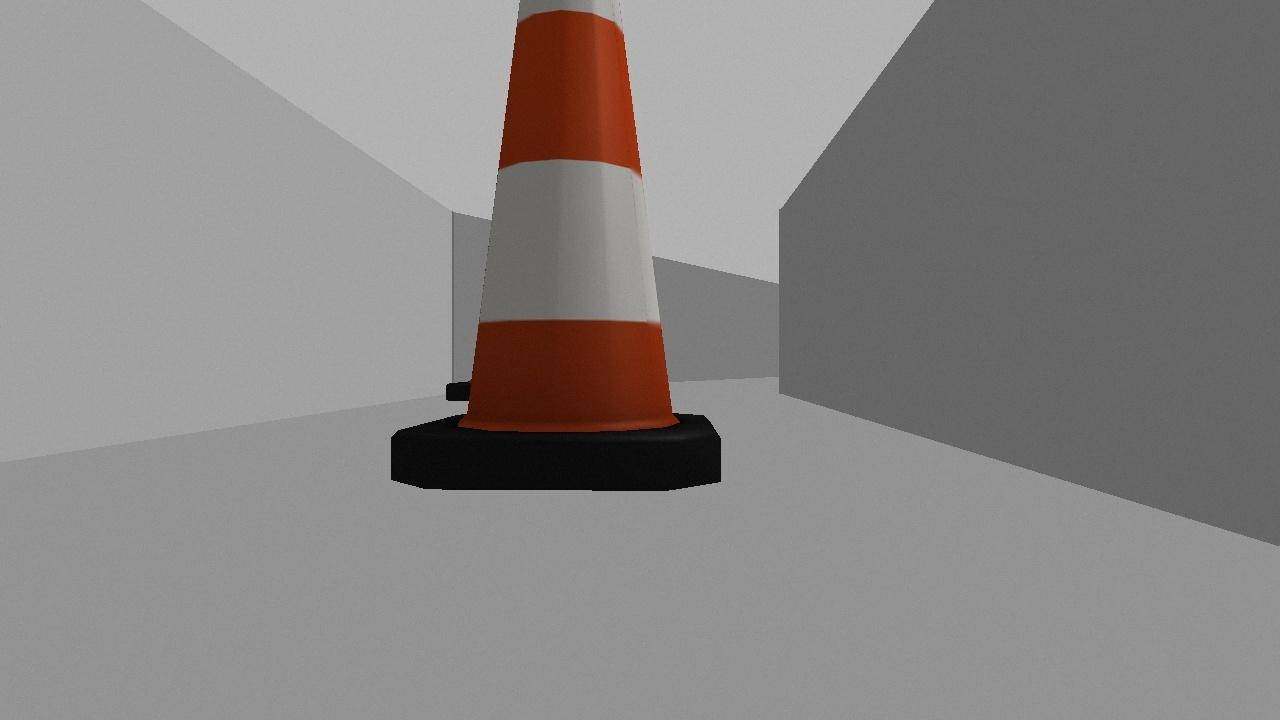cone_barrel: (386, 0, 720, 488)
